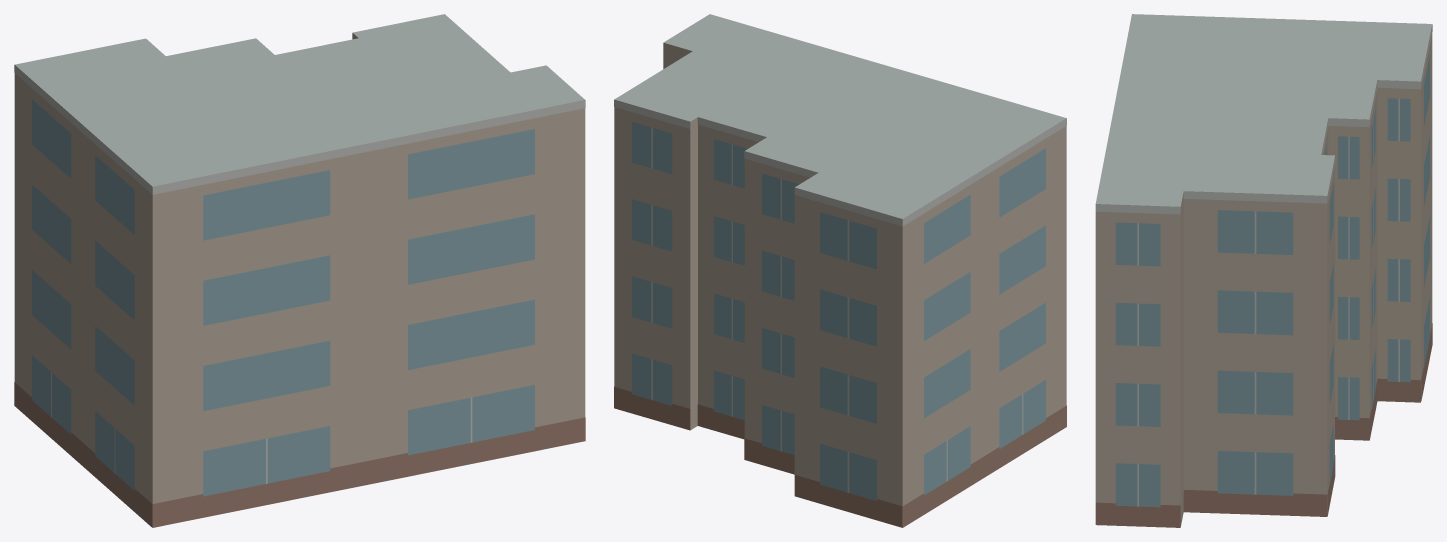
File: survey-upis-32898047.glb
3 views of the same model, side by side, from view 1: azimuth 30°, elevation 25°; view 2: azimuth 150°, elevation 25°; view 3: azimuth 270°, elevation 25° (orthographic). The views are drawn at different scales.
Parts seen in each view (by area): view 1: survey-upis-32898047.tmp; view 2: survey-upis-32898047.tmp; view 3: survey-upis-32898047.tmp.
Boxes of the visible parts, box(x1,y1,x2,y2) form: survey-upis-32898047.tmp: box(14, 14, 585, 527); survey-upis-32898047.tmp: box(614, 14, 1066, 527); survey-upis-32898047.tmp: box(1095, 14, 1432, 527).
Bounding box in the file's own units: 13.15 × 10.2 × 9.71.
